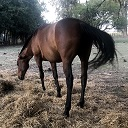caballo: (15, 11, 118, 119)
